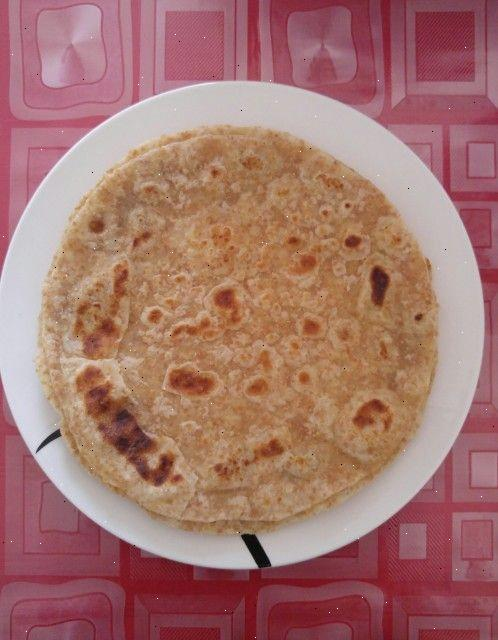roti phulka: (37, 122, 439, 536)
